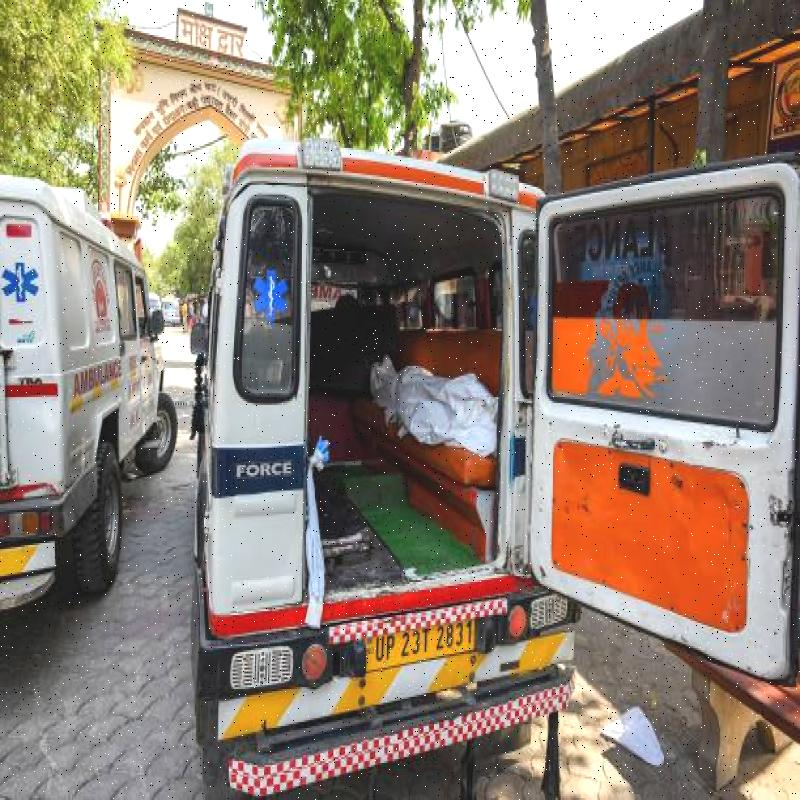ambulance: (220, 142, 573, 746)
